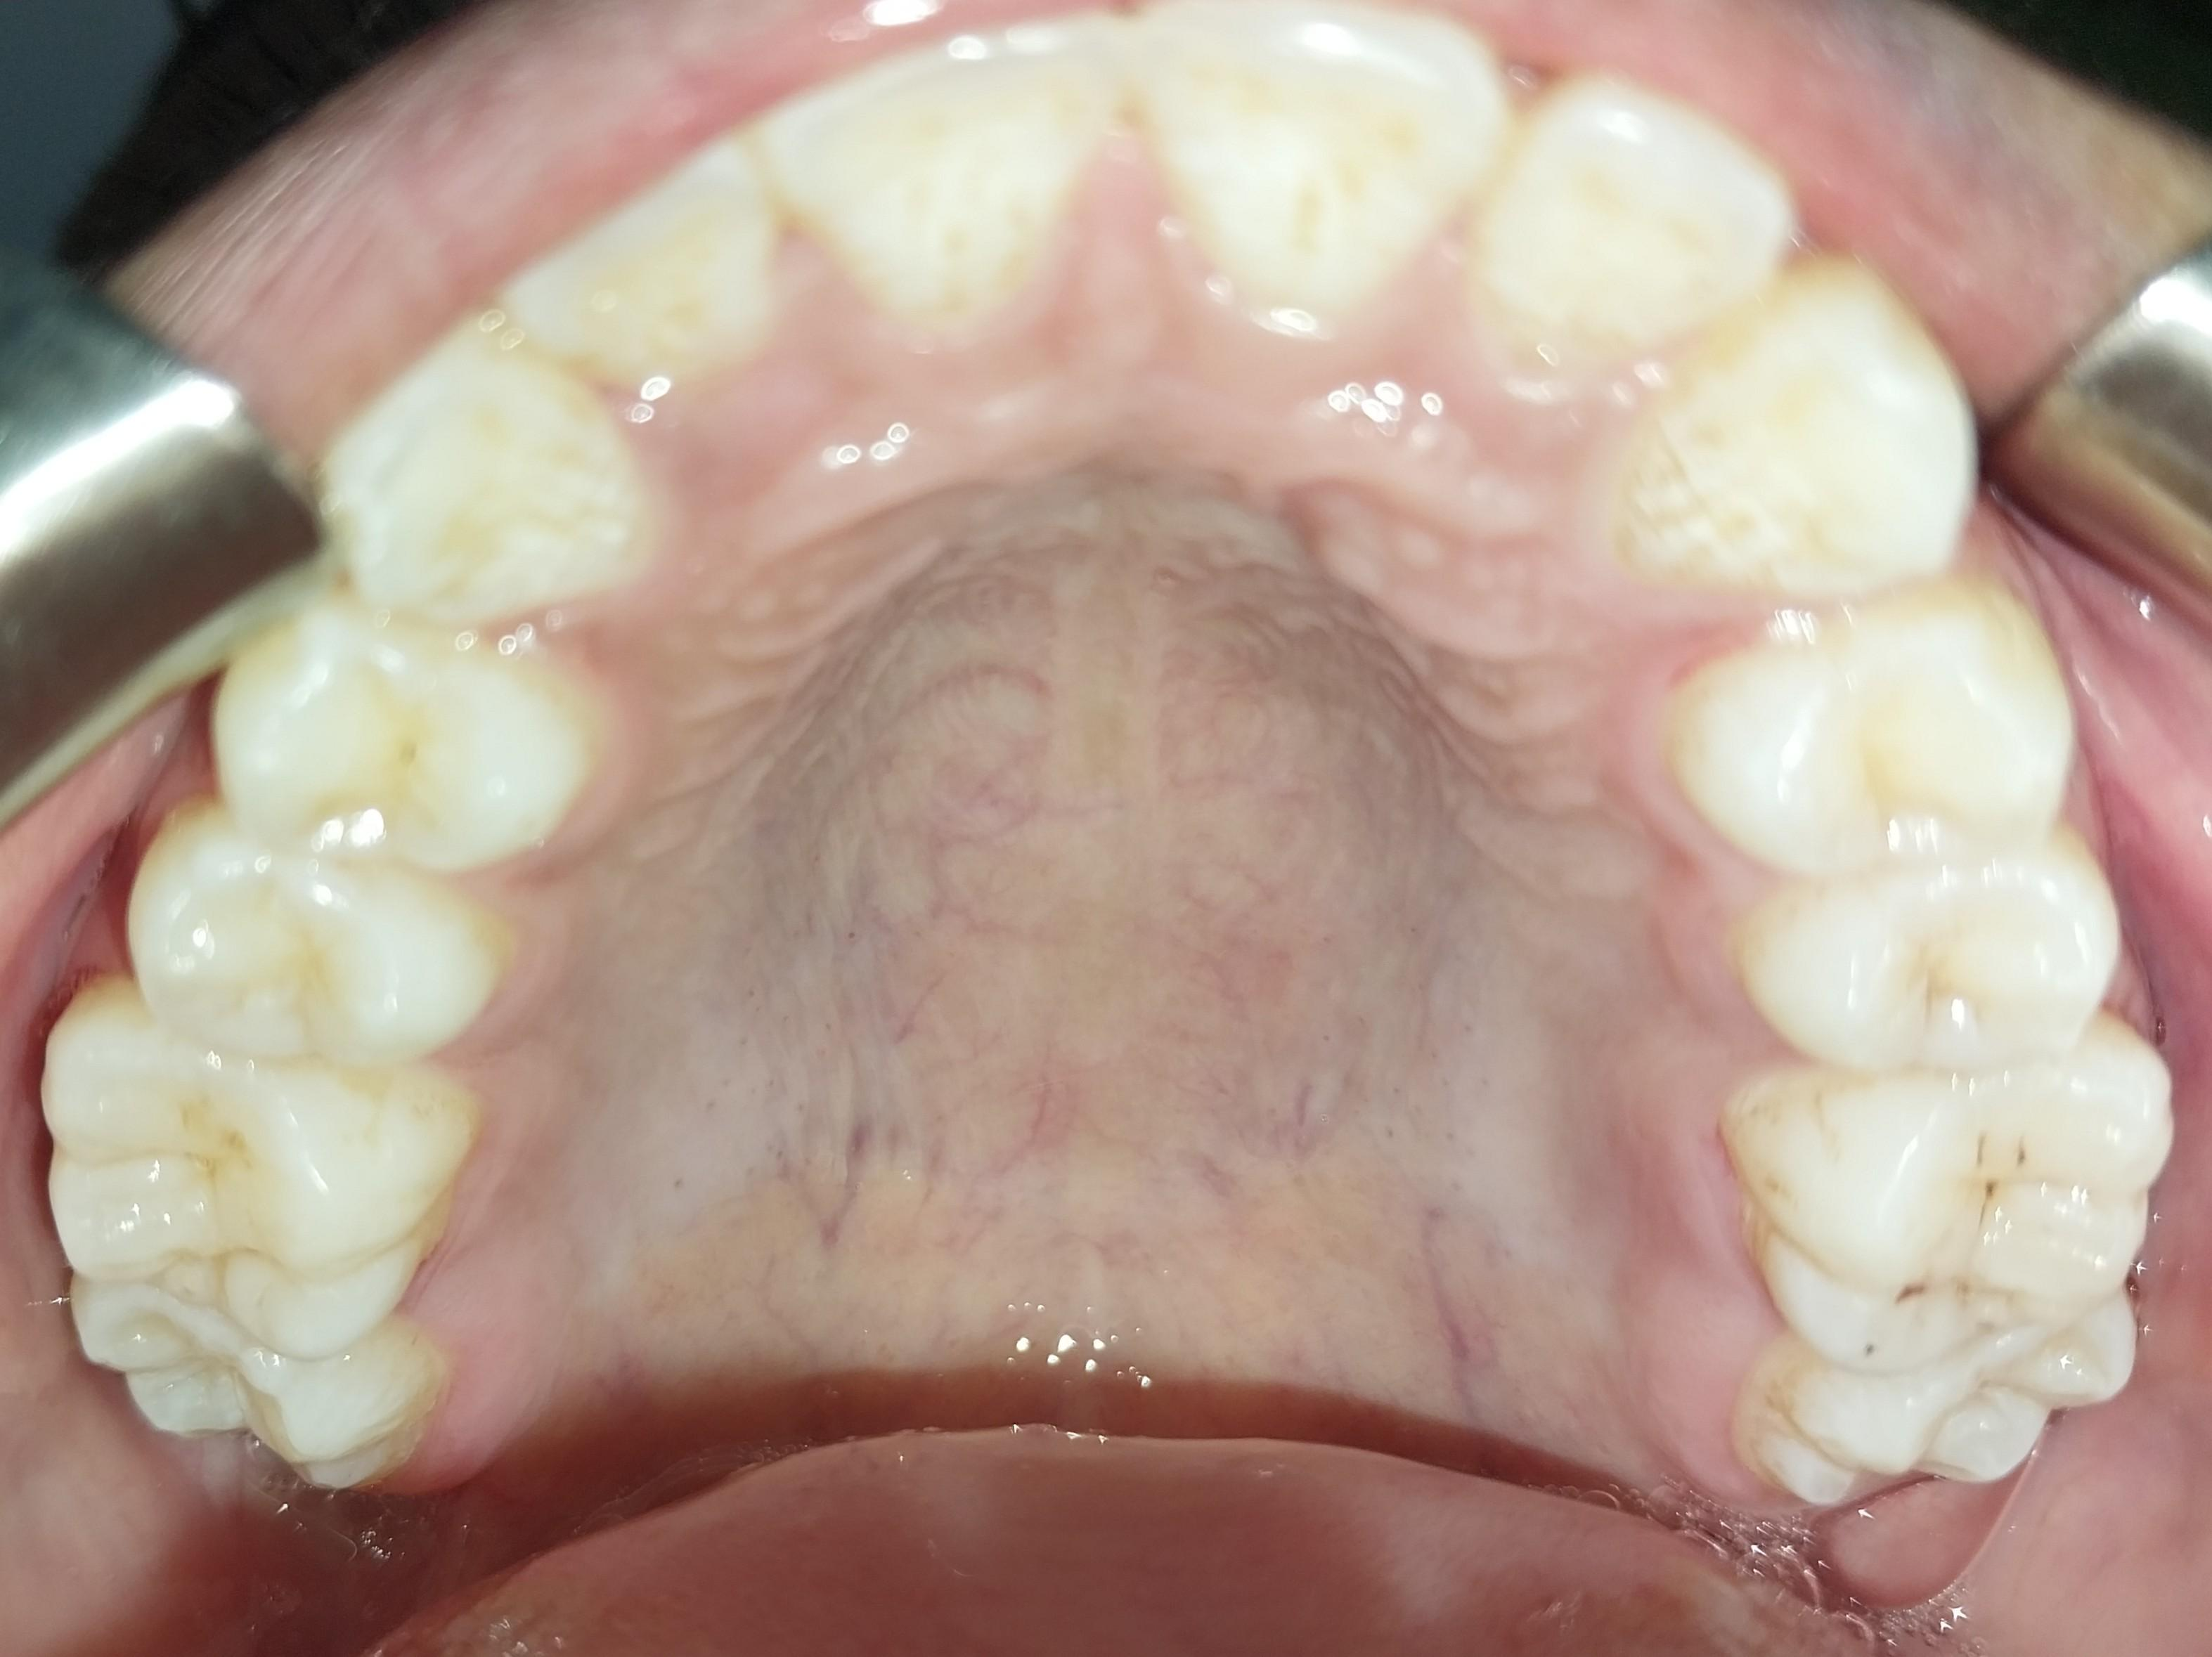D: (1730, 1056, 2188, 1360)
